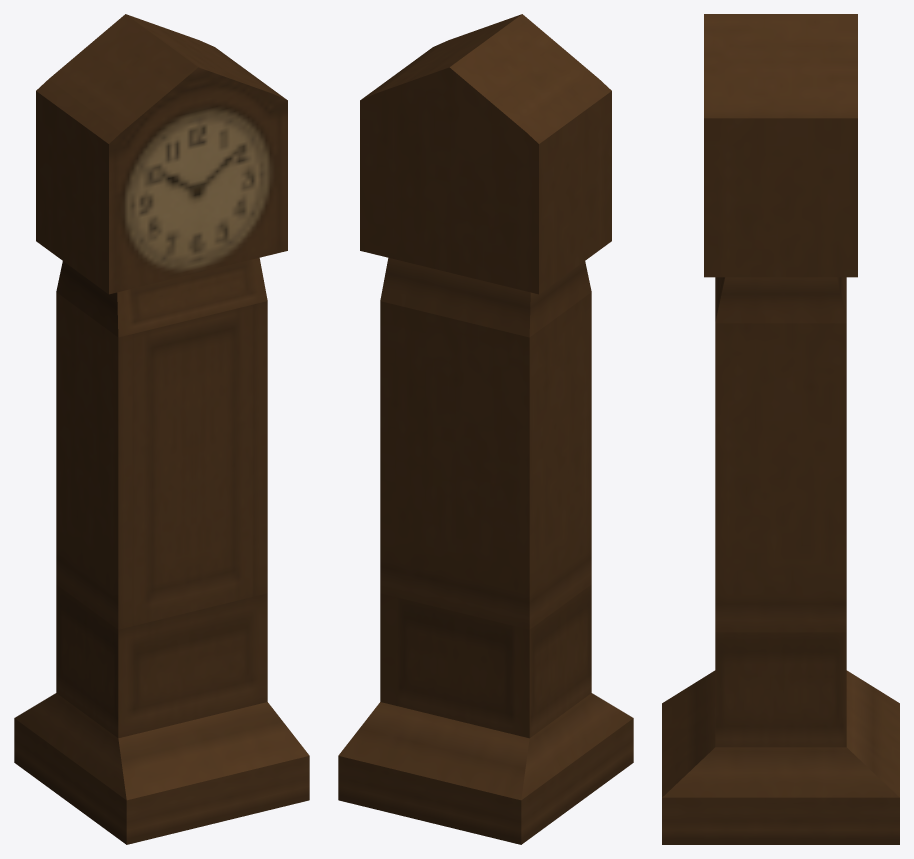
File: GrandfatherClock.fbx
3 renders of one model, left to right at view 1: azimuth 30°, elevation 25°; view 2: azimuth 150°, elevation 25°; view 3: azimuth 270°, elevation 25°, orthographic. The views are drawn at different scales.
Parts seen in each view (by area): view 1: GrandClock, GrandClockDoor; view 2: GrandClock; view 3: GrandClock.
Boxes of the visible parts, x1,y1,x2,y2 form: GrandClock: (14, 14, 309, 844); GrandClockDoor: (132, 304, 253, 625); GrandClock: (338, 14, 633, 844); GrandClock: (662, 14, 899, 844).
Size of the model in its own units: 151 by 161 by 585.
